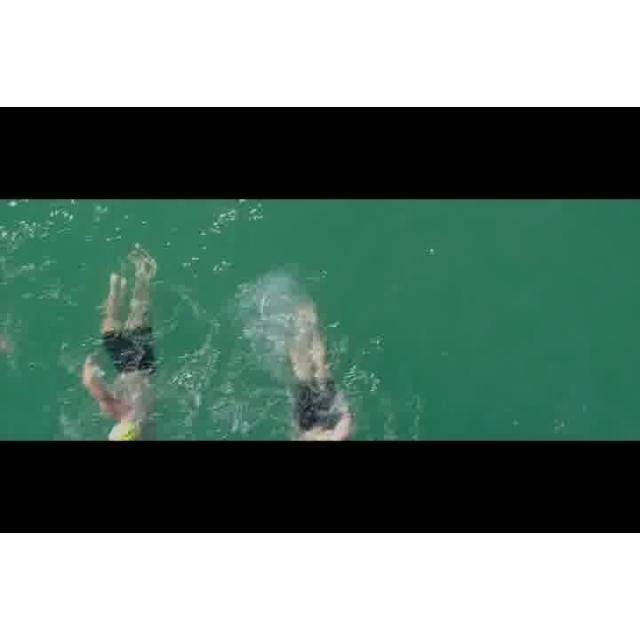human: (81, 251, 157, 441), (281, 302, 358, 440)
